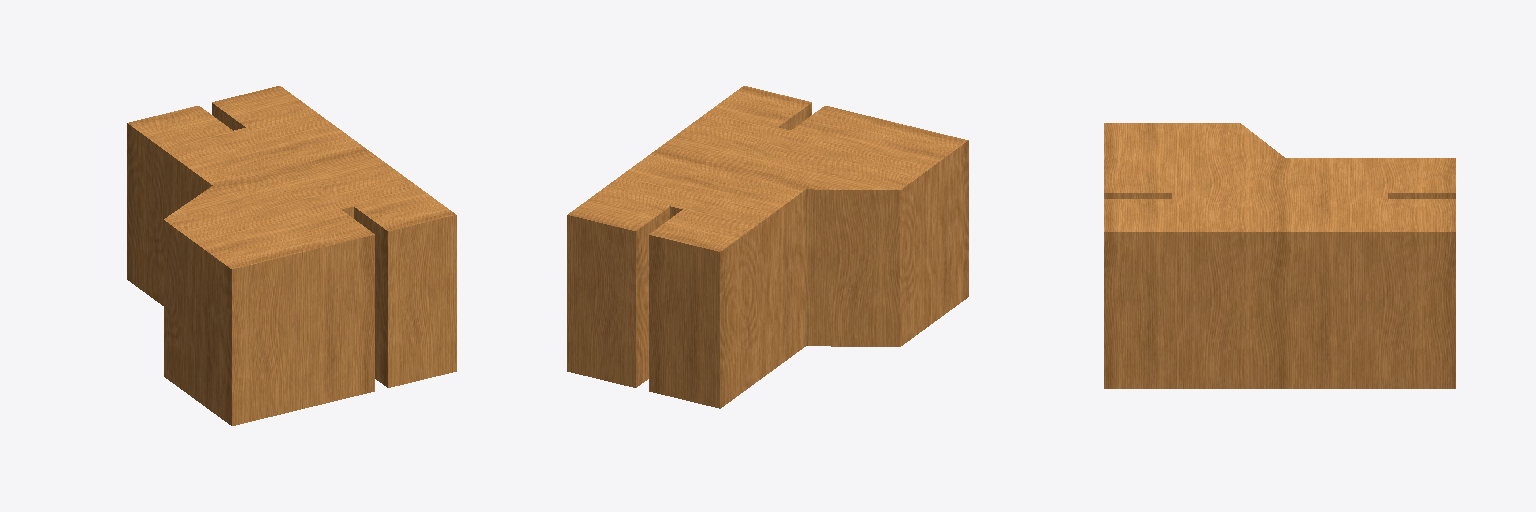
3 renders of one model, left to right at view 1: azimuth 30°, elevation 25°; view 2: azimuth 150°, elevation 25°; view 3: azimuth 270°, elevation 25°, orthographic.
Parts seen in each view (by area): view 1: Cube; view 2: Cube; view 3: Cube.
Boxes of the visible parts, x1,y1,x2,y2 form: Cube: [127, 86, 456, 425]; Cube: [567, 86, 968, 408]; Cube: [1104, 123, 1455, 388].
Size of the model in its own units: 3 by 2 by 4.08.
Materials: 1 (1 with a texture image).